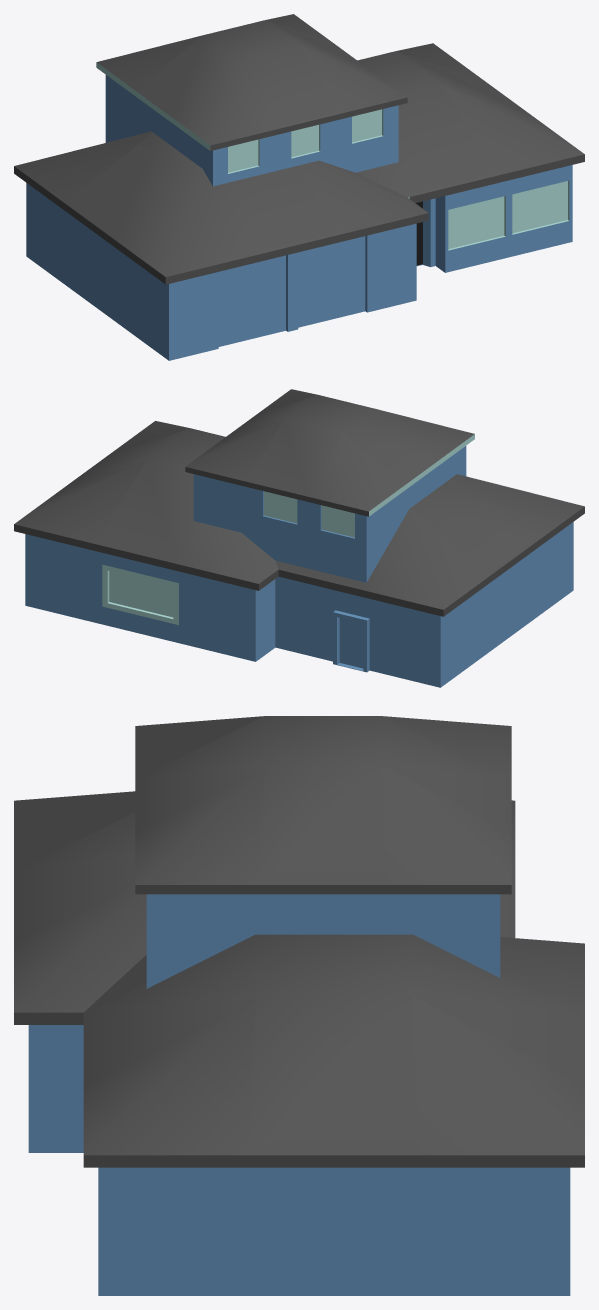
File: House1.fbx
3 views of the same model, one above another, from view 1: azimuth 30°, elevation 25°; view 2: azimuth 150°, elevation 25°; view 3: azimuth 270°, elevation 25° (orthographic). The views are drawn at different scales.
Parts seen in each view (by area): view 1: House_1.001; view 2: House_1.001; view 3: House_1.001.
Part boxes in pixels (x1=…): House_1.001: x1=14, y1=14, x2=584, y2=360; House_1.001: x1=14, y1=389, x2=584, y2=687; House_1.001: x1=14, y1=716, x2=584, y2=1295.
Bounding box in the file's own units: 1957 × 904 × 1331.
